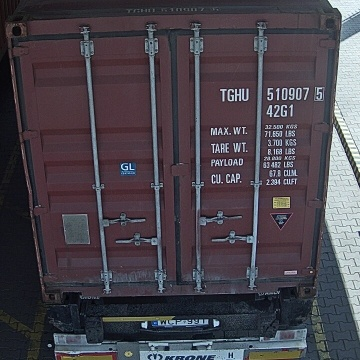serial_id: (220, 86, 324, 101)
